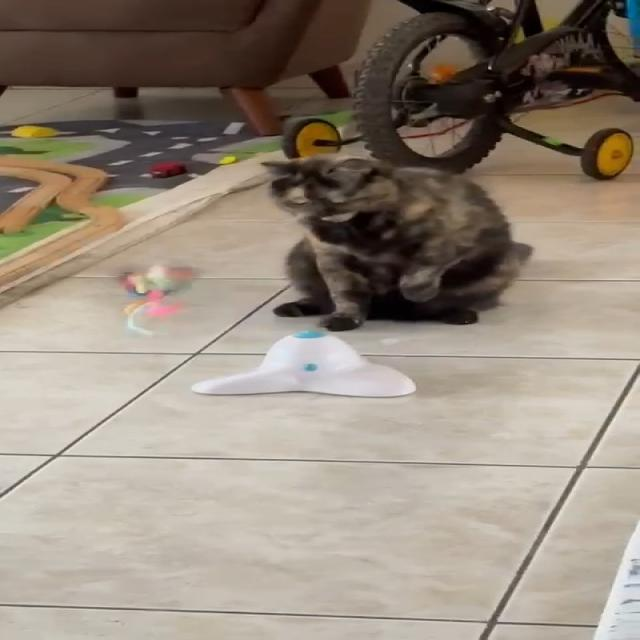authorized: (259, 152, 533, 332)
